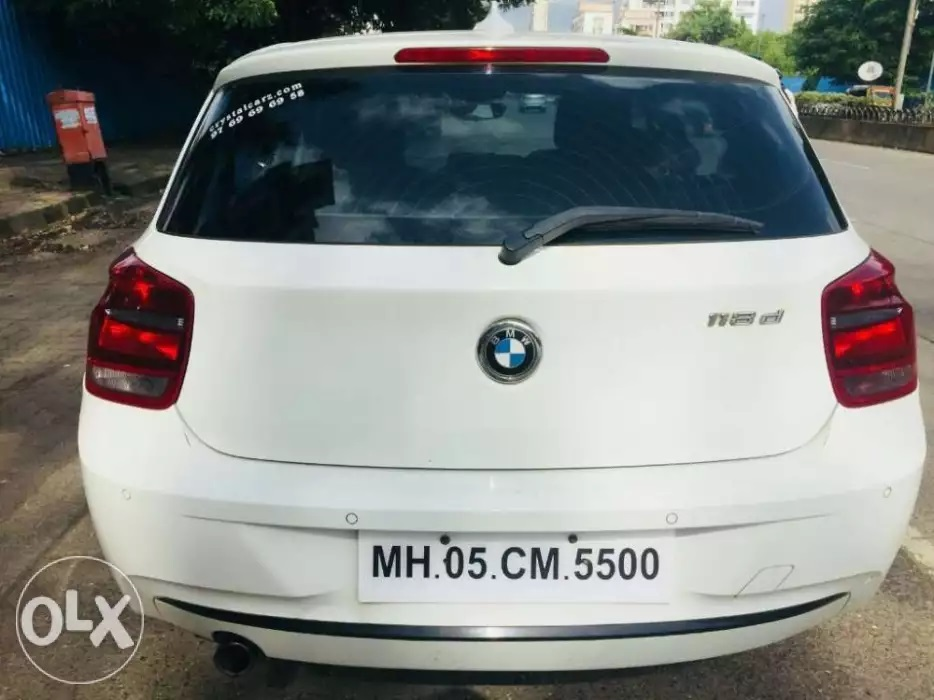licenseplate: (355, 518, 685, 611)
